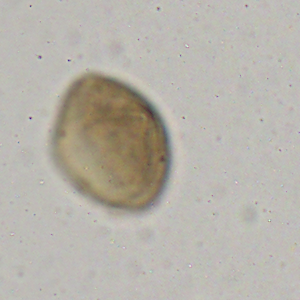Fasciola_hepatica_egg: (48, 69, 174, 211)
